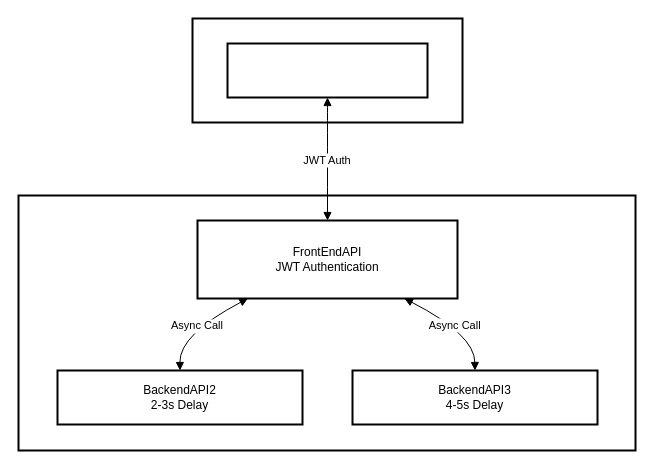
Image size: 653x468. Some labels were removed from this diagram. Each missing label, with the box of its shape:
Server Side: (17, 194, 636, 451)
Web Browser Client: (226, 42, 428, 98)
